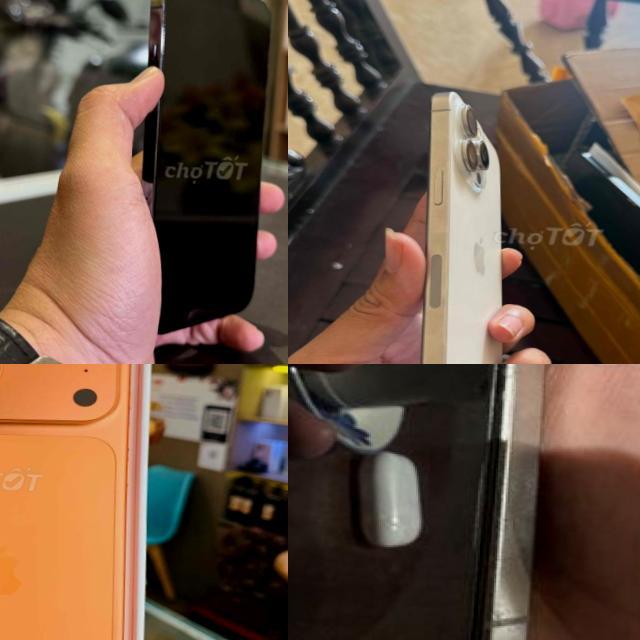scratch: (480, 364, 531, 467)
